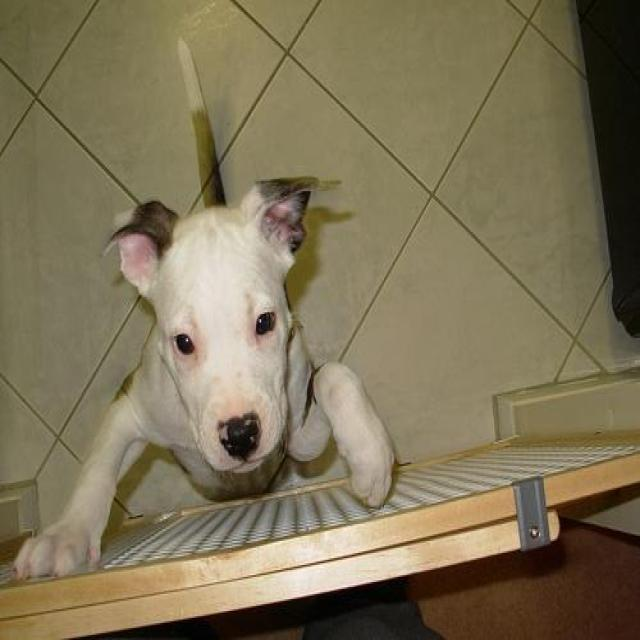staffordshire_bullterrier: (8, 34, 399, 591)
